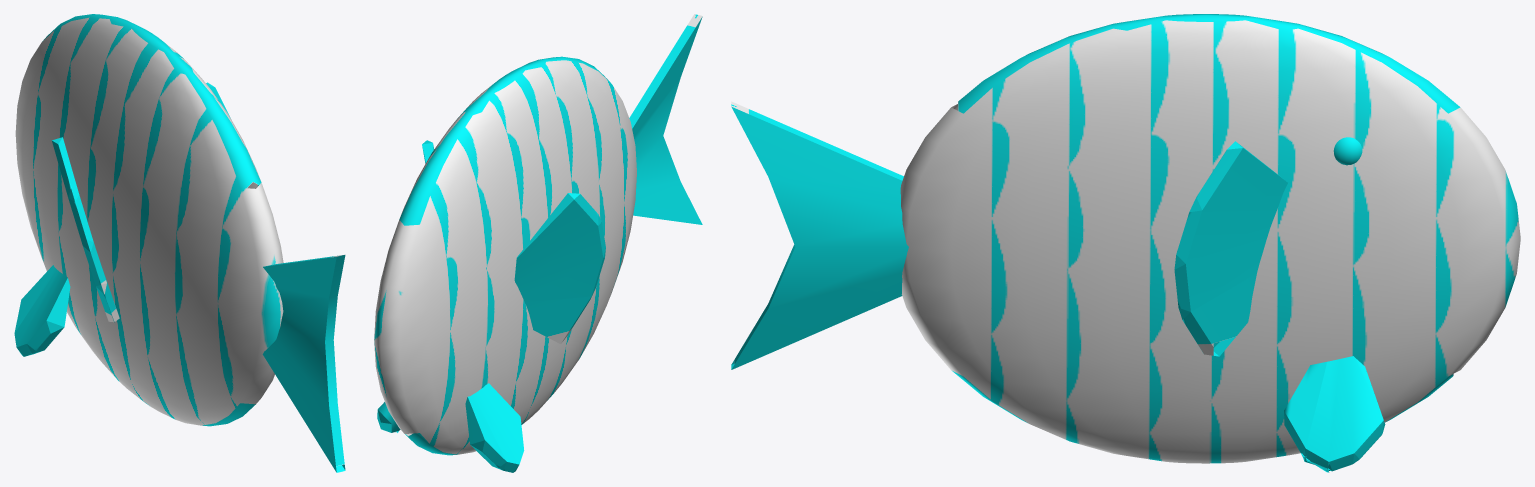
Rendered from The Nice Fish.fbx.
3 renders of one model, left to right at view 1: azimuth 30°, elevation 25°; view 2: azimuth 150°, elevation 25°; view 3: azimuth 270°, elevation 25°, orthographic. The views are drawn at different scales.
Visible parts, largest first — view 1: polySurface33; view 2: polySurface33; view 3: polySurface33.
Boxes of the visible parts, <box> form: polySurface33: <box>14,14,345,472</box>; polySurface33: <box>374,14,702,472</box>; polySurface33: <box>731,14,1520,472</box>.
Size of the model in its own units: 2.3 by 4.66 by 7.46.
Materials: 1 (1 with a texture image).
